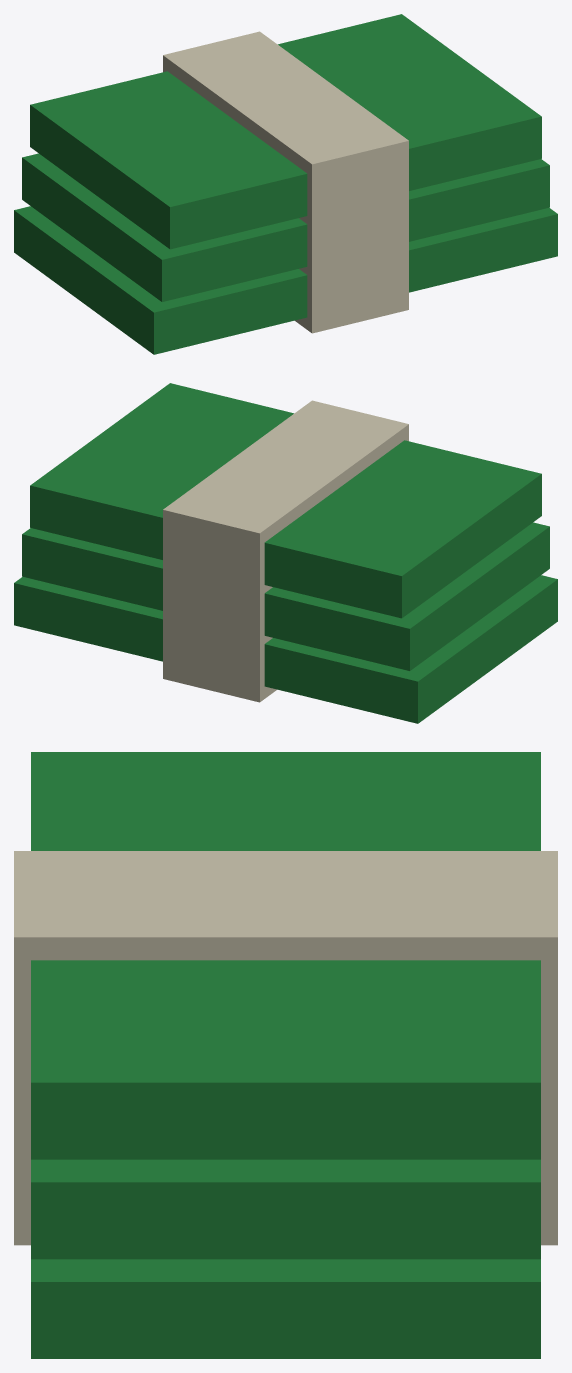
Rendered from mobile.glb.
3 renders of one model, top to bottom at view 1: azimuth 30°, elevation 25°; view 2: azimuth 150°, elevation 25°; view 3: azimuth 270°, elevation 25°, orthographic. The views are drawn at different scales.
Parts seen in each view (by area): view 1: pickup-cash; view 2: pickup-cash; view 3: pickup-cash.
Part boxes in pixels (x1,y1,x2,y2): pickup-cash: (14, 14, 557, 354); pickup-cash: (14, 383, 557, 723); pickup-cash: (14, 752, 557, 1358).
Bounding box in the file's own units: 0.5 × 0.2 × 0.32.
